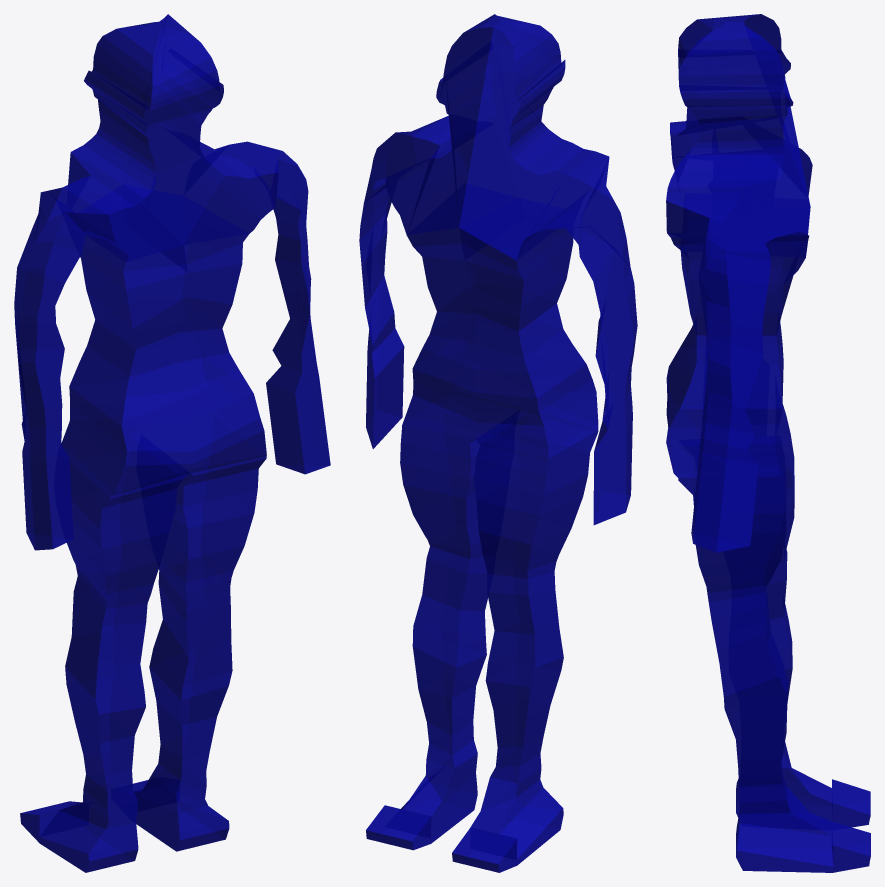
Rendered from woman_000042.obj.
The picture shows the model from 3 angles, left to right: view 1: azimuth 30°, elevation 25°; view 2: azimuth 150°, elevation 25°; view 3: azimuth 270°, elevation 25°; orthographic projection. The views are drawn at different scales.
Parts seen in each view (by area): view 1: Cube_Cube.001; view 2: Cube_Cube.001; view 3: Cube_Cube.001.
Part boxes in pixels (x1=…): Cube_Cube.001: x1=14, y1=14, x2=330, y2=872; Cube_Cube.001: x1=359, y1=14, x2=637, y2=872; Cube_Cube.001: x1=666, y1=14, x2=870, y2=872.
Bounding box in the file's own units: 3.62 × 9.94 × 2.25.
